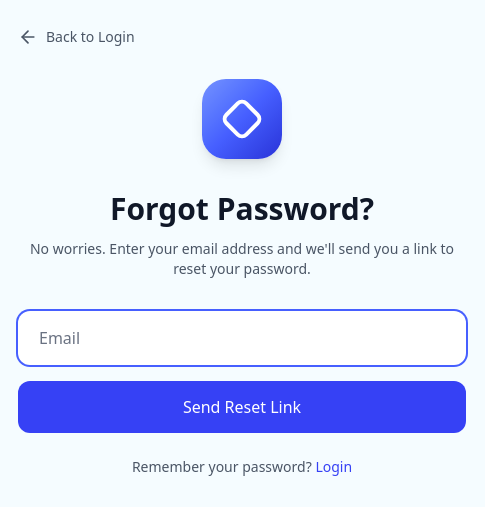
it: Forgot password: the form › refuses an address that is not an email
This screenshot has width=485, height=507.
Type "coach@" into the field named "Email address" at (242, 338), box top-left (18, 311), bottom-right (466, 365)
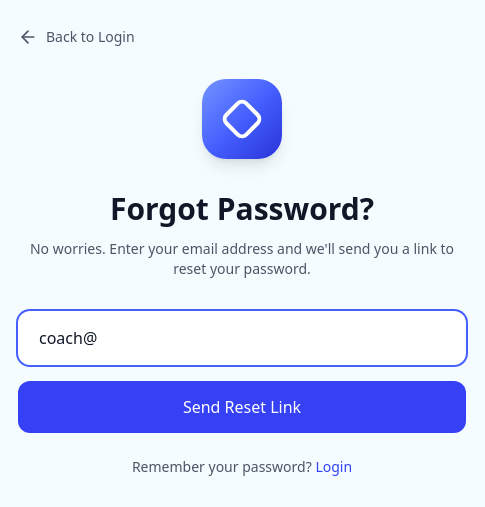
Click the button "Send Reset Link" at (242, 407), box top-left (18, 381), bottom-right (466, 433)
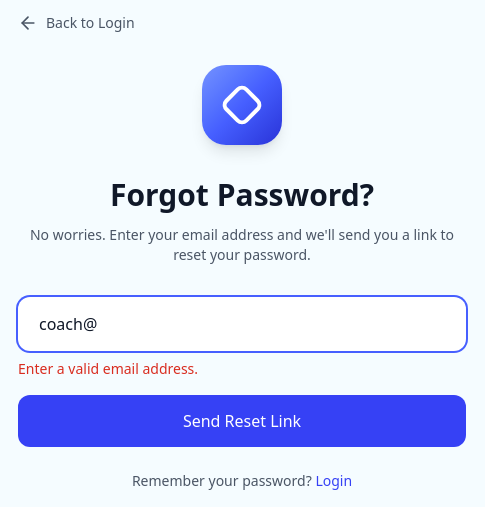
Now the text "Enter a valid email address." is shown, box top-left (18, 359), bottom-right (198, 378)
